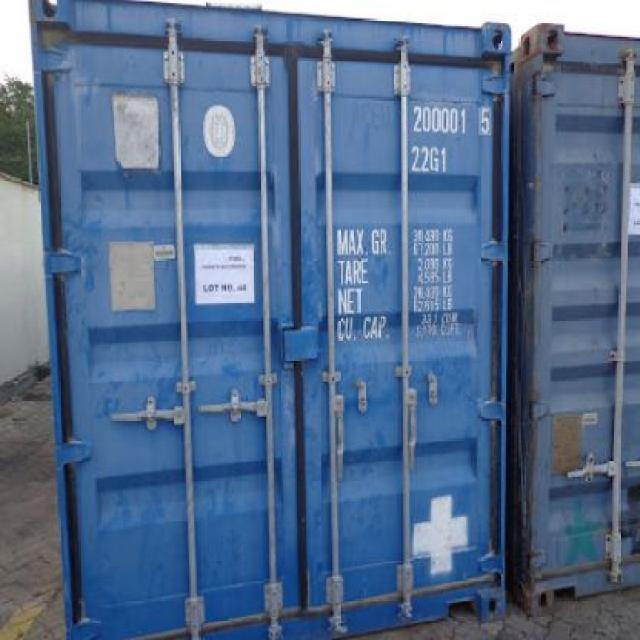ISO: (412, 149, 451, 173)
container_number: (413, 106, 488, 134)
